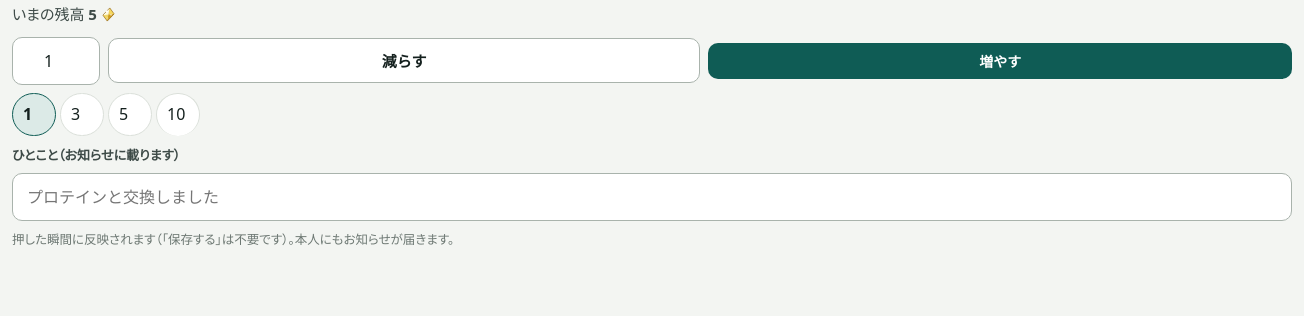
Test: ★ お知らせ › 送ったあと、ひとことは消える（次の人に持ち越さない）
Type "タオルと交換" into the field. click: (652, 197)
box: [12,173,1292,222]
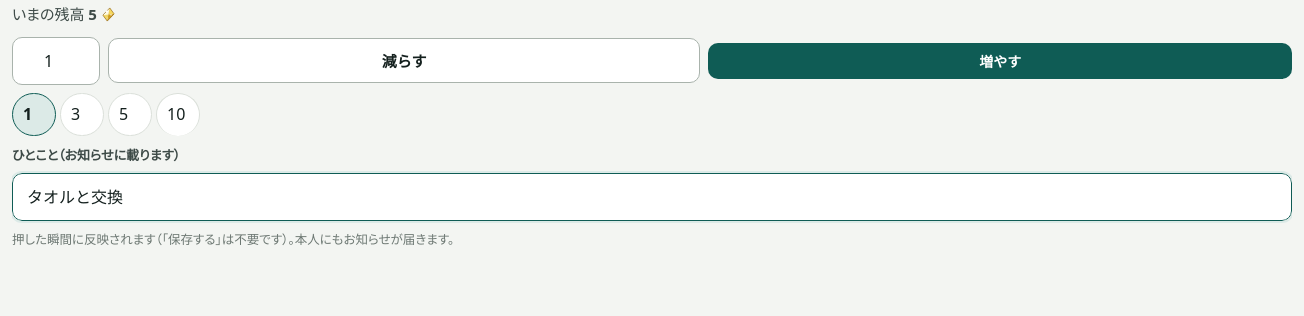
Click the button "減らす". click: (404, 61)
box: [108,38,700,83]
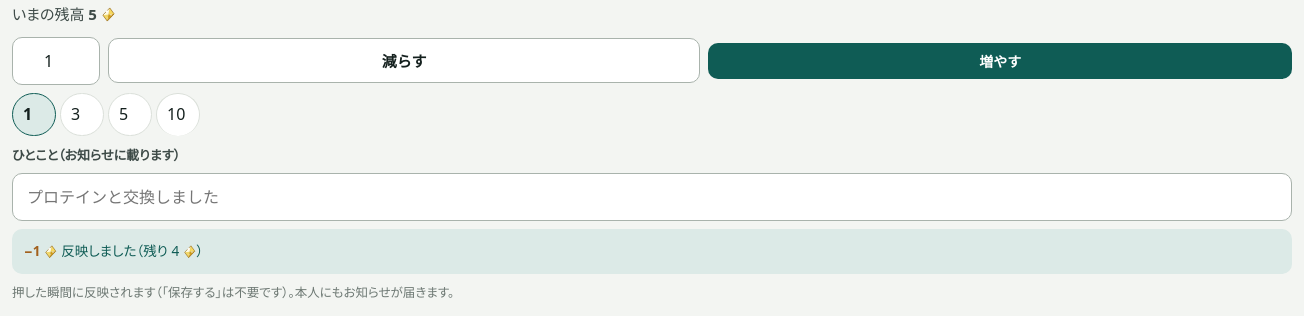
Now the message "−1 反映しました（残り 4 ）" is shown, box [12,230,1292,274]
Now the field is empty, box [12,173,1292,222]
